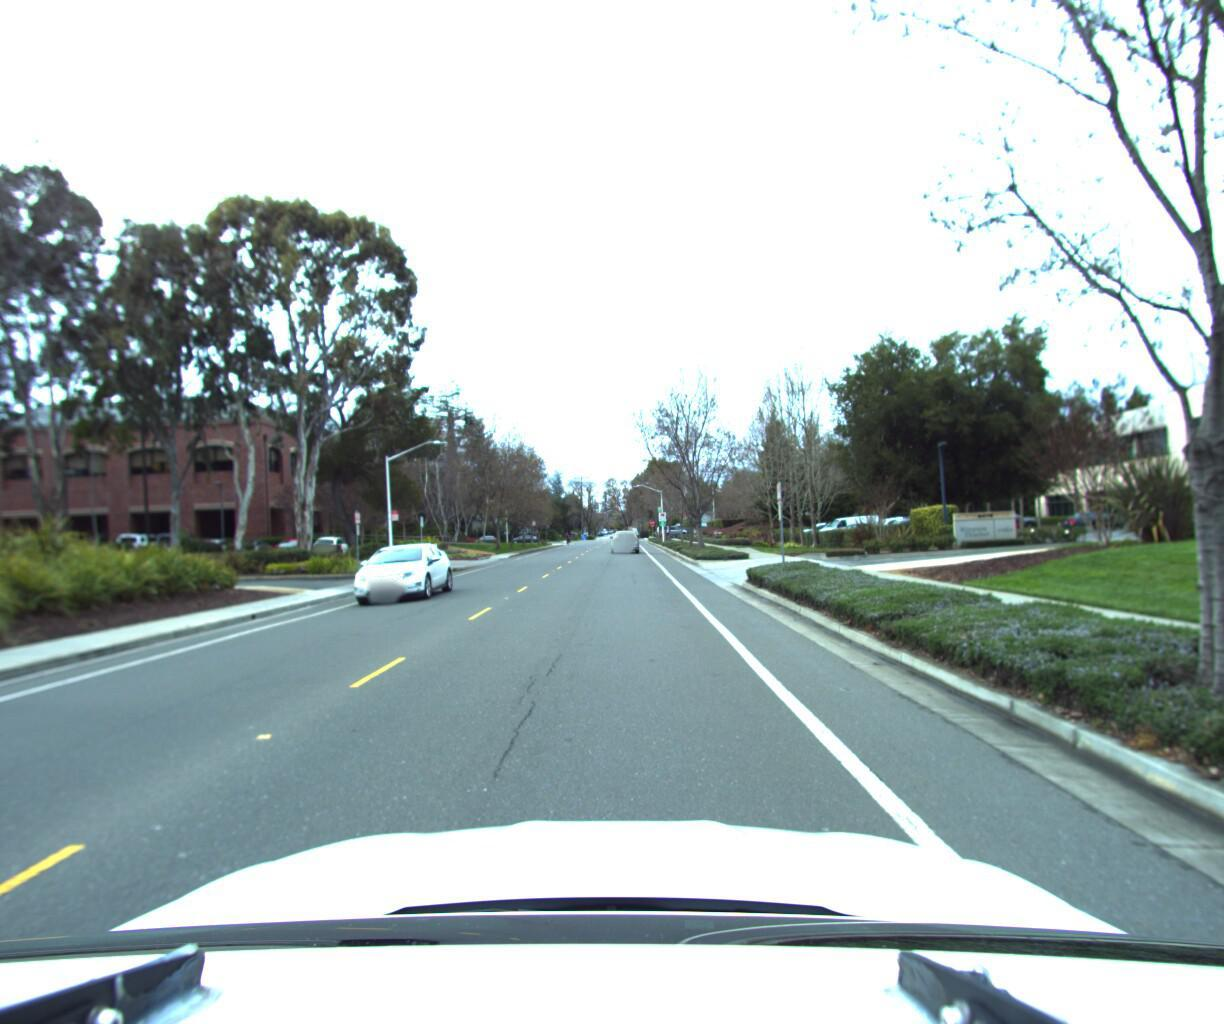car: (346, 538, 457, 603), (607, 521, 639, 548)
